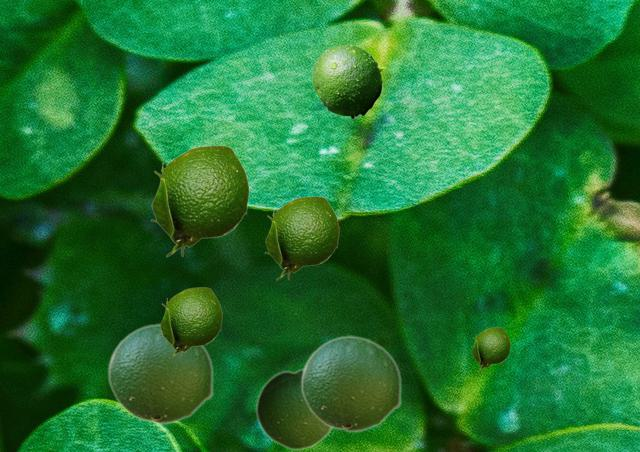dalandan: (150, 145, 248, 256), (107, 323, 213, 424), (300, 335, 401, 432), (255, 367, 332, 450), (264, 196, 338, 279), (312, 44, 384, 118), (159, 287, 221, 357), (471, 327, 509, 370)
